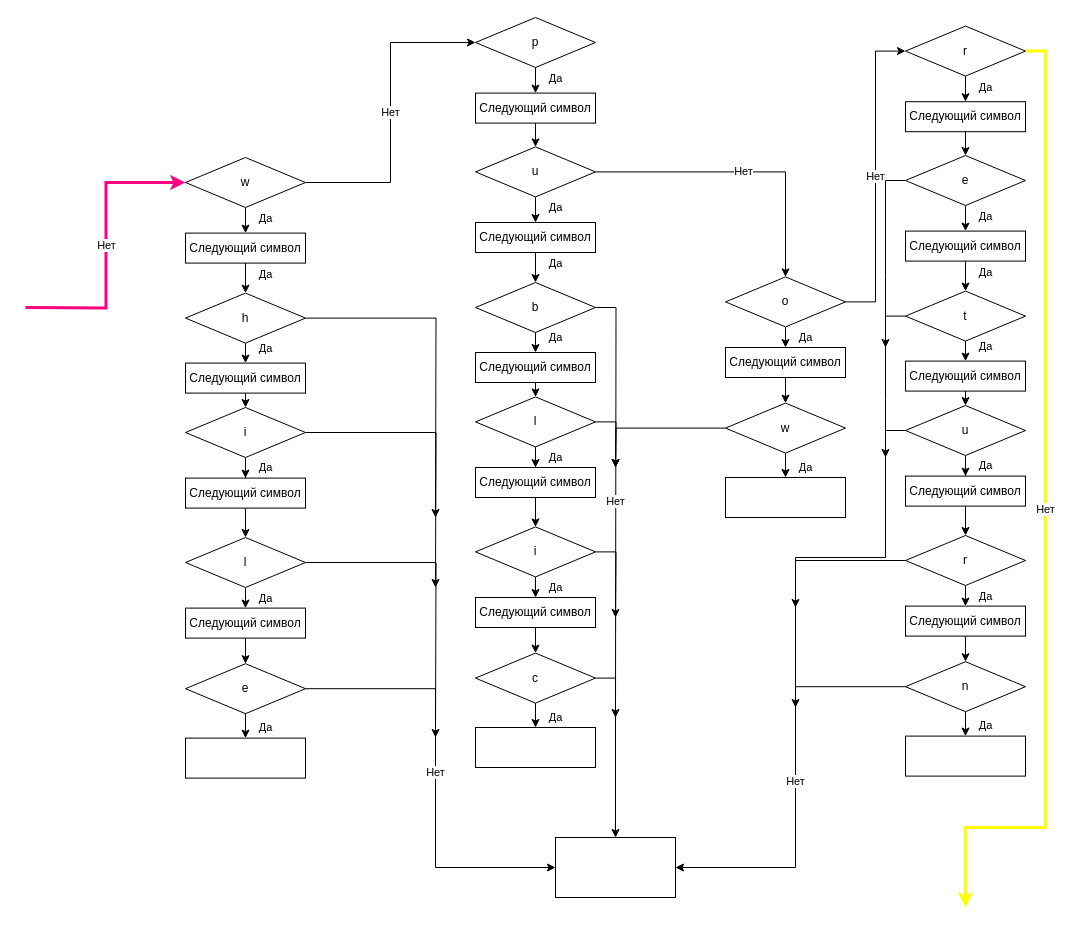
The diagram is 1072 pixels wide and 934 high, and some of its shapes have lost their labels. Here are the shapes that lost their labels. From the top down, the centre of each, then its label:
At (785,497): "Тип лексемы: ключевое слово pow".
At (245,757): "Тип лексемы: ключевое слово while".
At (535,747): "Тип лексемы: ключевое слово pulbic".
At (965,755): "Тип лексемы: ключевое слово return".
At (615,867): "Тип лексемы идентификатор".
